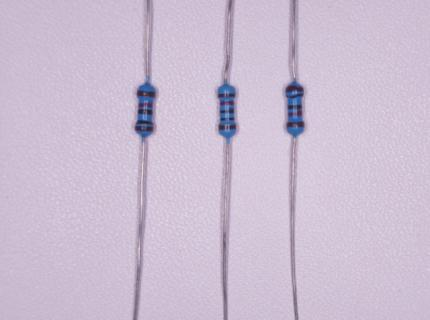Black band: (137, 119, 154, 125), (138, 109, 153, 115), (286, 93, 304, 98), (220, 109, 235, 114), (288, 105, 302, 110), (220, 117, 234, 121)
Brown band: (135, 125, 154, 132), (285, 86, 305, 92), (137, 91, 156, 97), (286, 122, 304, 128), (219, 125, 236, 130), (217, 93, 236, 97)
Red band: (138, 102, 153, 108), (288, 111, 303, 117), (220, 101, 234, 106)
